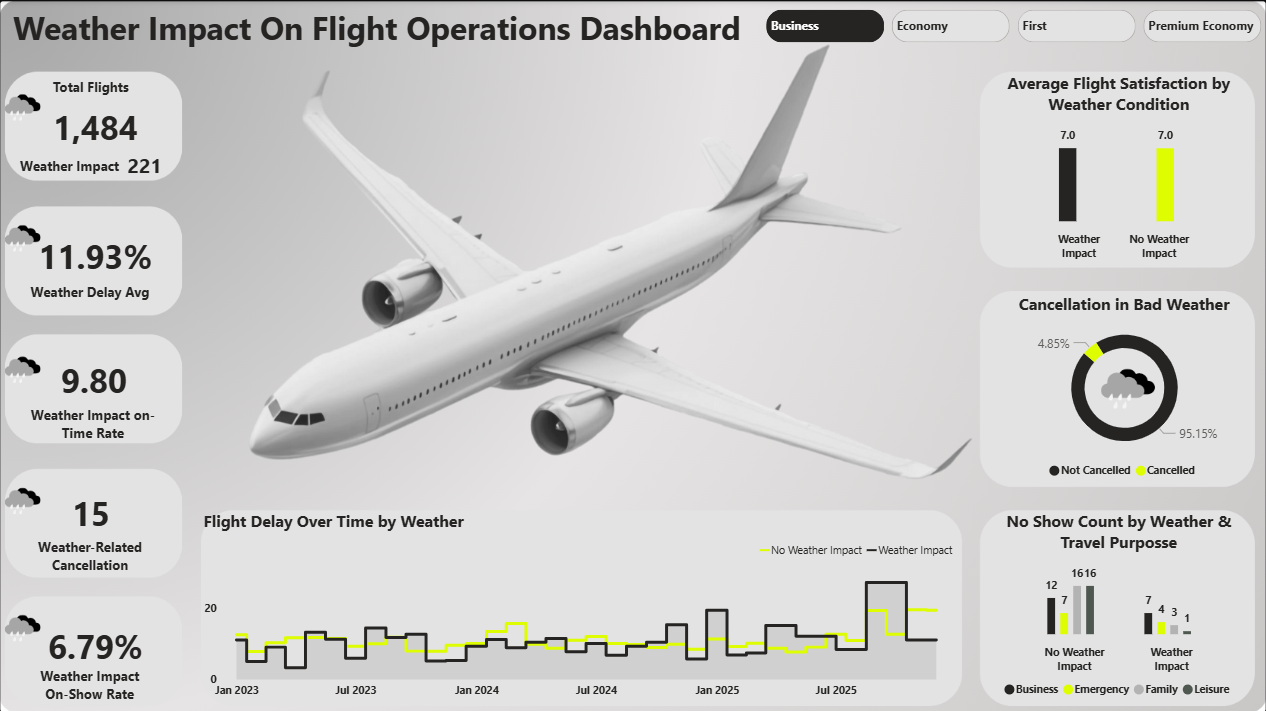

What the dashboard file says about the page in this screenshot:
{"tool":"powerbi","page":{"name":"Page 1","canvas":[1280,720],"ordinal":0},"visuals":[{"type":"textbox","box":[9.1,0,760.1,56],"z":0},{"type":"card","fields":{"Values":["msr_tbl.Total_Flights"]},"box":[9.5,73,175.7,110.8],"z":1000},{"type":"card","fields":{"Values":["msr_tbl.Total_Flight_Weather_impact"]},"box":[106.8,152.7,78.4,31.1],"z":2000},{"type":"card","fields":{"Values":["msr_tbl.Avg_Delay_Weather_Impact"]},"box":[2.7,343.3,185.2,79.8],"z":3000},{"type":"card","fields":{"Values":["msr_tbl.On_Time_Weather_Impact"]},"box":[9.5,220.3,175.7,75.7],"z":4000},{"type":"card","fields":{"Values":["msr_tbl.Total_Cancellation_Weather_Impact"]},"box":[0,473.1,185.2,91.9],"z":5000},{"type":"card","fields":{"Values":["msr_tbl.No_Show_Rate%_Weather_Impact"]},"box":[9.5,615,175.7,75.7],"z":6000},{"type":"areaChart","title":"Flight Delay Over Time by Weather","fields":{"Series":["Flights_Dataset.Weather_Impact_Lebel"],"Y":["msr_tbl.Avg_Delay_Flights"],"Category":["Flights_Dataset.Departure_Date.Variation.Date Hierarchy.Year","Flights_Dataset.Departure_Date.Variation.Date Hierarchy.Month"]},"box":[201.4,515,770.5,198.7],"z":7000},{"type":"clusteredColumnChart","title":"Average Flight Satisfaction by Weather Condition","fields":{"Category":["Flights_Dataset.Weather_Impact_Lebel"],"Y":["msr_tbl.Avg_Flight_Satisfaction"],"Series":["Flights_Dataset.Weather_Impact_Lebel"]},"box":[992.2,73,277.1,197.4],"z":8000},{"type":"donutChart","title":"Cancellation in Bad Weather","fields":{"Category":["Flights_Dataset.Cancellation_Lebel"],"Y":["CountNonNull(Flights_Dataset.Flight_ID)"]},"box":[992.2,294.7,288,197.4],"z":9000},{"type":"clusteredColumnChart","title":"No Show Count by Weather & Travel Purposse","fields":{"Category":["Flights_Dataset.Weather_Impact_Lebel"],"Y":["Sum(Flights_Dataset.No_Show)"],"Series":["Flights_Dataset.Travel_Purpose"]},"box":[992.2,515,277.1,198.7],"z":10000},{"type":"advancedSlicerVisual","fields":{"Values":["Flights_Dataset.Seat_Class"]},"box":[769.2,5,510.3,43.9],"z":11000},{"type":"textbox","box":[39.2,73,106.8,31.1],"z":12000},{"type":"textbox","box":[9.5,152.7,124.4,31.1],"z":13000},{"type":"textbox","box":[18.9,279.8,147.3,31.1],"z":14000},{"type":"textbox","box":[21.6,404.2,147.3,55.4],"z":15000},{"type":"textbox","box":[20.3,538,144.6,54.1],"z":16000},{"type":"textbox","box":[28.4,667.7,125.7,46],"z":17000}]}

Visuals, with their boxes in screenshot pixels (x1, y1, x2, y2), scaled from the page's 1280x720 canvas onto the 1266x711 screenshot:
textbox: (9, 0, 761, 55)
card - msr_tbl.Total_Flights: (9, 72, 183, 182)
card - msr_tbl.Total_Flight_Weather_impact: (106, 151, 183, 182)
card - msr_tbl.Avg_Delay_Weather_Impact: (3, 339, 186, 418)
card - msr_tbl.On_Time_Weather_Impact: (9, 218, 183, 292)
card - msr_tbl.Total_Cancellation_Weather_Impact: (0, 467, 183, 558)
card - msr_tbl.No_Show_Rate%_Weather_Impact: (9, 607, 183, 682)
"Flight Delay Over Time by Weather" areaChart: (199, 509, 961, 705)
"Average Flight Satisfaction by Weather Condition" clusteredColumnChart: (981, 72, 1255, 267)
"Cancellation in Bad Weather" donutChart: (981, 291, 1265, 486)
"No Show Count by Weather & Travel Purposse" clusteredColumnChart: (981, 509, 1255, 705)
advancedSlicerVisual - Flights_Dataset.Seat_Class: (761, 5, 1265, 48)
textbox: (39, 72, 144, 103)
textbox: (9, 151, 132, 182)
textbox: (19, 276, 164, 307)
textbox: (21, 399, 167, 454)
textbox: (20, 531, 163, 585)
textbox: (28, 659, 152, 705)
